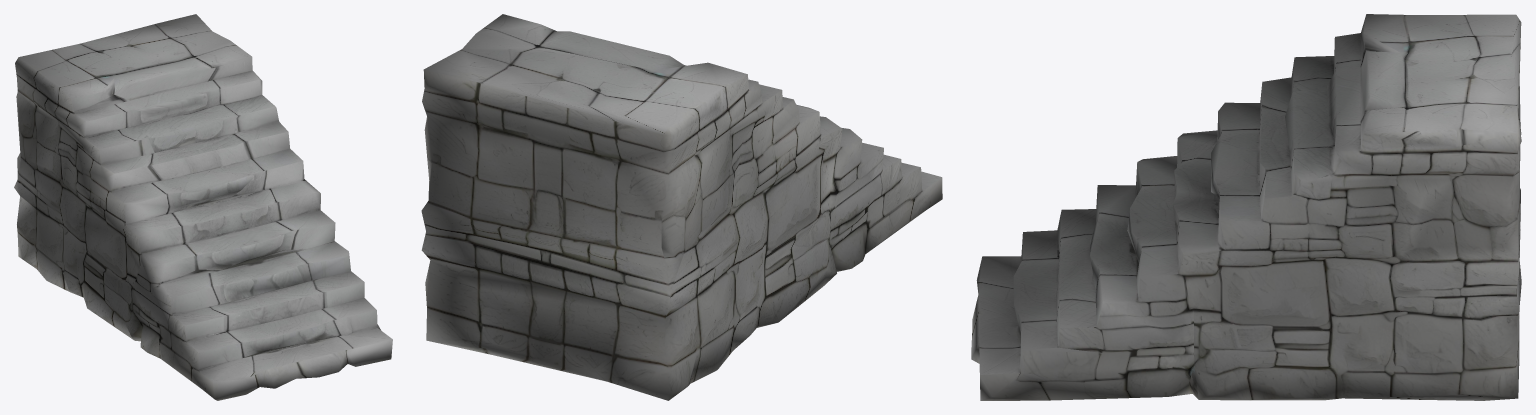
The model's file is stager case.fbx.
3 renders of one model, left to right at view 1: azimuth 30°, elevation 25°; view 2: azimuth 150°, elevation 25°; view 3: azimuth 270°, elevation 25°, orthographic. The views are drawn at different scales.
Visible parts, largest first — view 1: tripo_node_c42f839e; view 2: tripo_node_c42f839e; view 3: tripo_node_c42f839e.
Boxes of the visible parts, bbox=[...] form: tripo_node_c42f839e: bbox=[14, 14, 392, 400]; tripo_node_c42f839e: bbox=[421, 14, 942, 400]; tripo_node_c42f839e: bbox=[971, 14, 1521, 400].
Bounding box in the file's own units: 54.24 × 55.34 × 99.75.
Materials: 1 (1 with a texture image).
